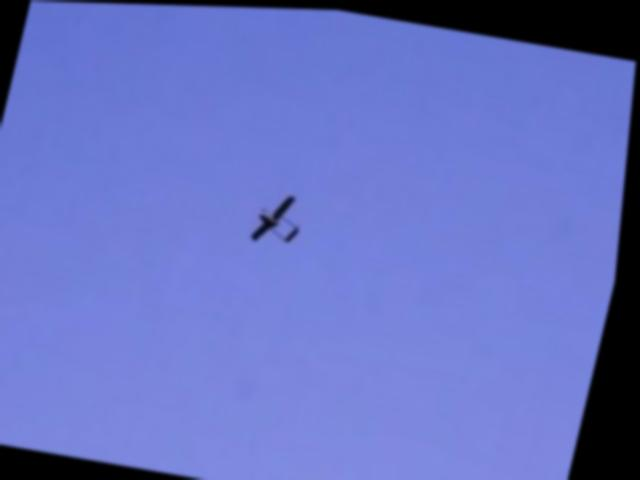uav: (249, 184, 315, 250)
